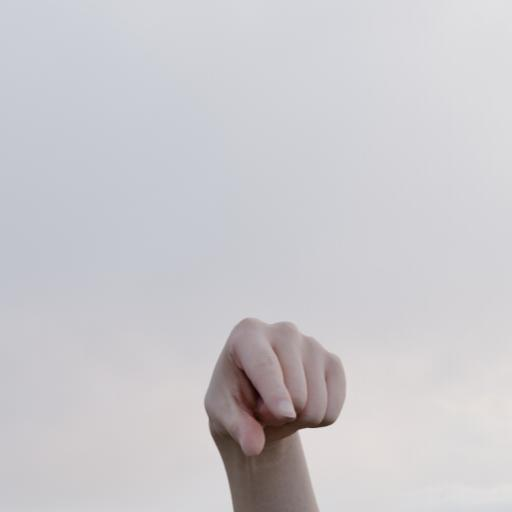Q: (176, 294, 361, 512)
